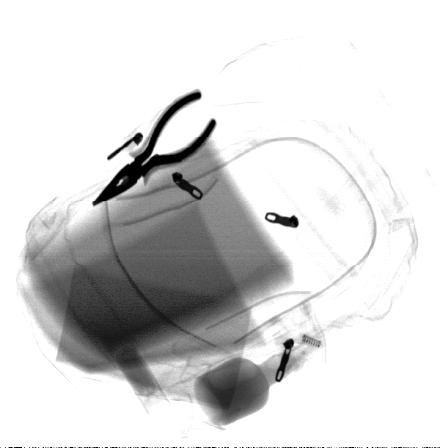Pliers: (90, 88, 218, 209)
